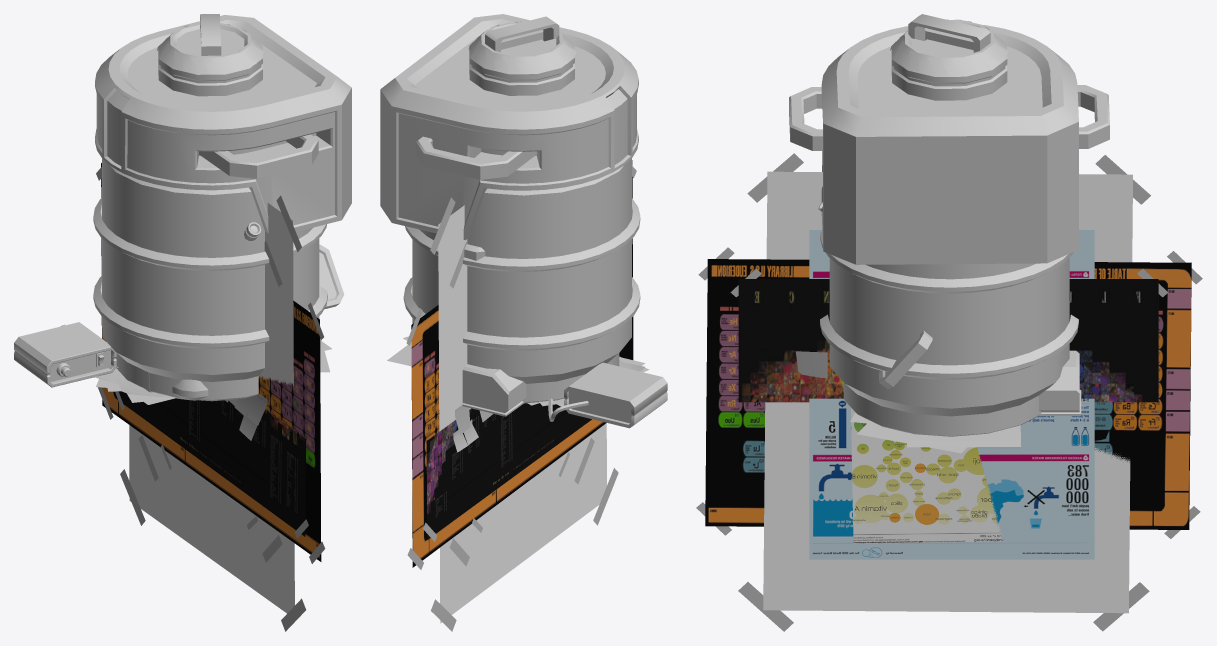
The model's file is deco_objects.fbx.
The picture shows the model from 3 angles, left to right: view 1: azimuth 30°, elevation 25°; view 2: azimuth 150°, elevation 25°; view 3: azimuth 270°, elevation 25°; orthographic projection. The views are drawn at different scales.
Visible parts, largest first — view 1: hidrogen_tank, Mesh_11_2, Mesh_10, Mesh_11, microscope, papers1, Mesh_8, deco_glasses, papers3; view 2: hidrogen_tank, Mesh_11_2, Mesh_10, Mesh_11, microscope, Mesh_8, papers1, postits_pc; view 3: hidrogen_tank, Mesh_11_2, Mesh_11, Mesh_8, Mesh_10, Mesh_9, microscope, papers1, papers3, postits_pc.
Part boxes in pixels (x1,y1,x2,y2): hidrogen_tank: (93,14,351,401); Mesh_11_2: (120,195,305,631); Mesh_10: (115,391,308,538); Mesh_11: (96,163,325,563); microscope: (14,222,344,387); papers1: (112,340,331,404); Mesh_8: (138,241,282,562); deco_glasses: (172,379,208,400); papers3: (94,338,329,391); hidrogen_tank: (380,14,640,403); Mesh_11_2: (430,197,618,631); Mesh_10: (423,403,591,541); Mesh_11: (406,160,636,569); microscope: (462,244,667,428); Mesh_8: (449,241,594,566); papers1: (387,342,649,401); postits_pc: (453,419,478,452); hidrogen_tank: (789,14,1109,436); Mesh_11_2: (738,153,1150,631); Mesh_11: (696,247,1202,538); Mesh_8: (809,230,1094,559); Mesh_10: (730,269,1168,402); Mesh_9: (851,408,1003,543); microscope: (818,202,1081,415); papers1: (906,425,1020,447); papers3: (850,412,966,453); postits_pc: (795,351,827,377).
Bounding box in the file's own units: 88.25 × 173 × 131.
